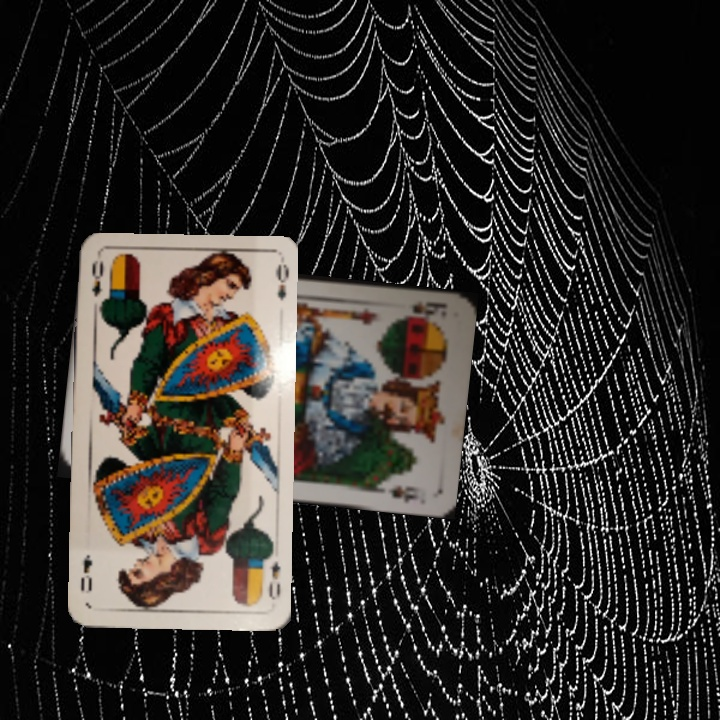EO: (259, 548, 283, 602), (87, 257, 106, 300)
SK: (401, 296, 450, 321)
